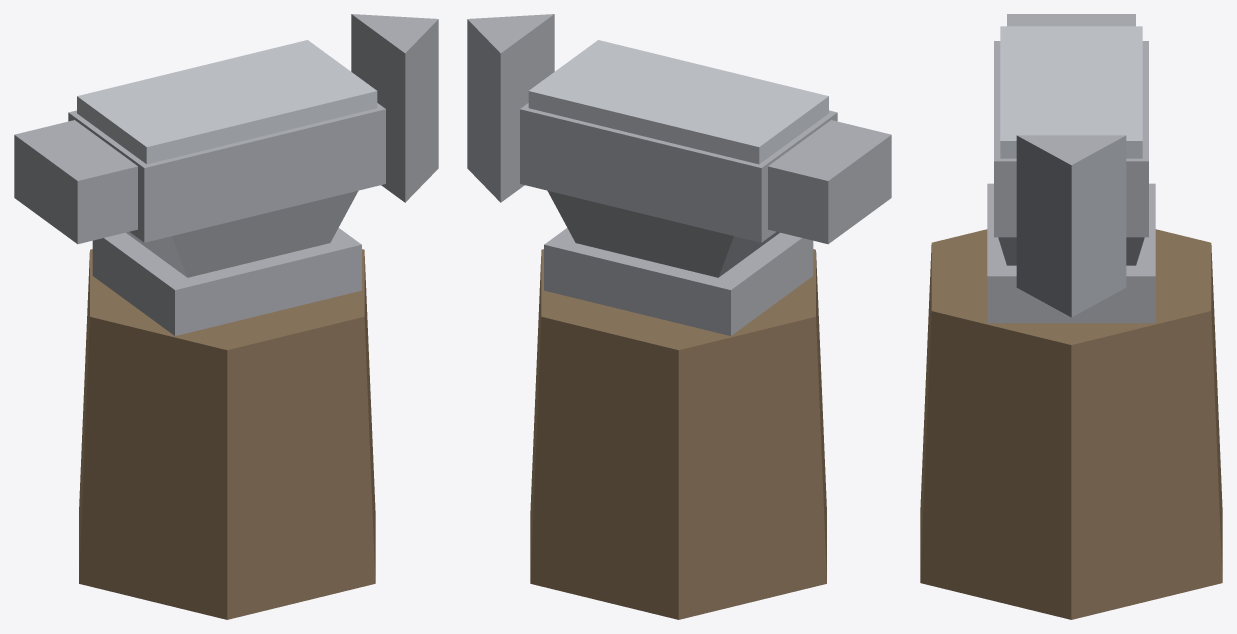
File: anvil.glb
3 renders of one model, left to right at view 1: azimuth 30°, elevation 25°; view 2: azimuth 150°, elevation 25°; view 3: azimuth 270°, elevation 25°, orthographic.
Parts seen in each view (by area): view 1: Anvil; view 2: Anvil; view 3: Anvil.
Boxes of the visible parts, <box> form: Anvil: <box>14,14,438,619</box>; Anvil: <box>467,14,891,619</box>; Anvil: <box>920,14,1222,619</box>.
Bounding box in the file's own units: 0.715 × 0.83 × 0.4677.
